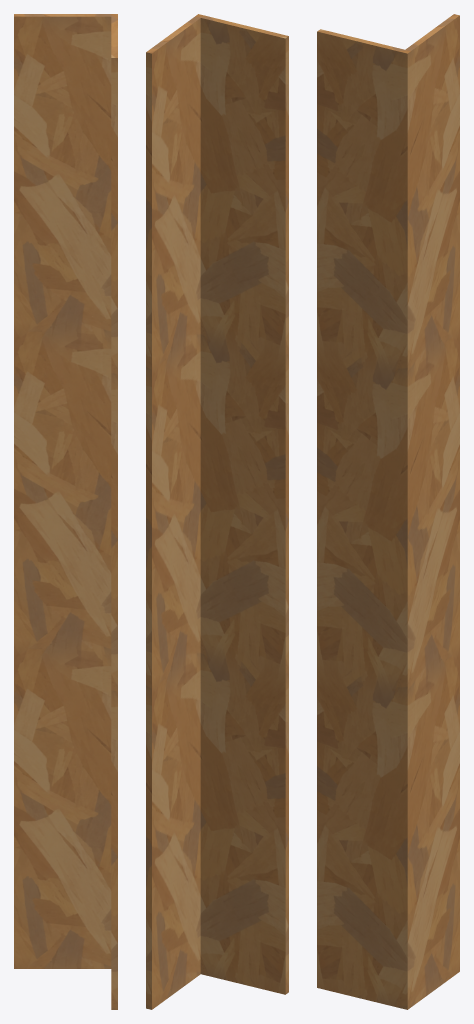
The model's file is ExteriorCorner.fbx.
The picture shows the model from 3 angles, left to right: view 1: azimuth 90°, elevation 25°; view 2: azimuth 150°, elevation 25°; view 3: azimuth 330°, elevation 25°; orthographic projection.
Parts seen in each view (by area): view 1: mdl_poi_ExteriorCorner; view 2: mdl_poi_ExteriorCorner; view 3: mdl_poi_ExteriorCorner.
Boxes of the visible parts, <box> form: mdl_poi_ExteriorCorner: <box>14,14,117,1009</box>; mdl_poi_ExteriorCorner: <box>146,14,288,1009</box>; mdl_poi_ExteriorCorner: <box>317,14,459,1009</box>.
Bounding box in the file's own units: 0.297 × 3 × 0.297.
